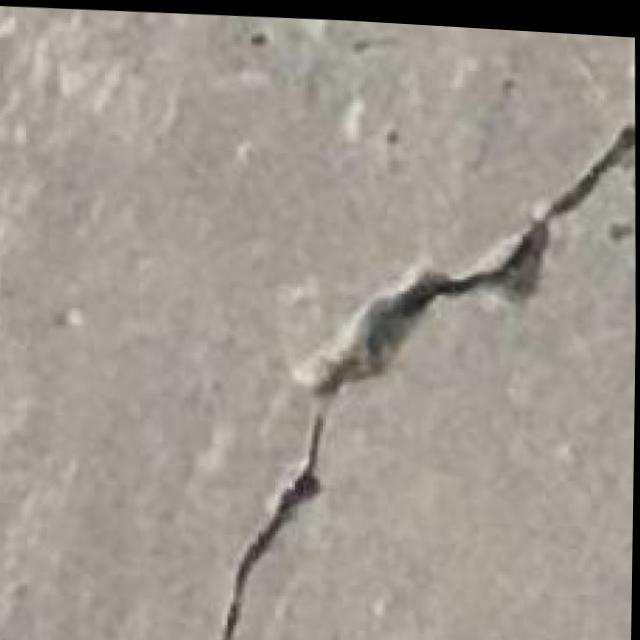Crack: (194, 87, 639, 640)
